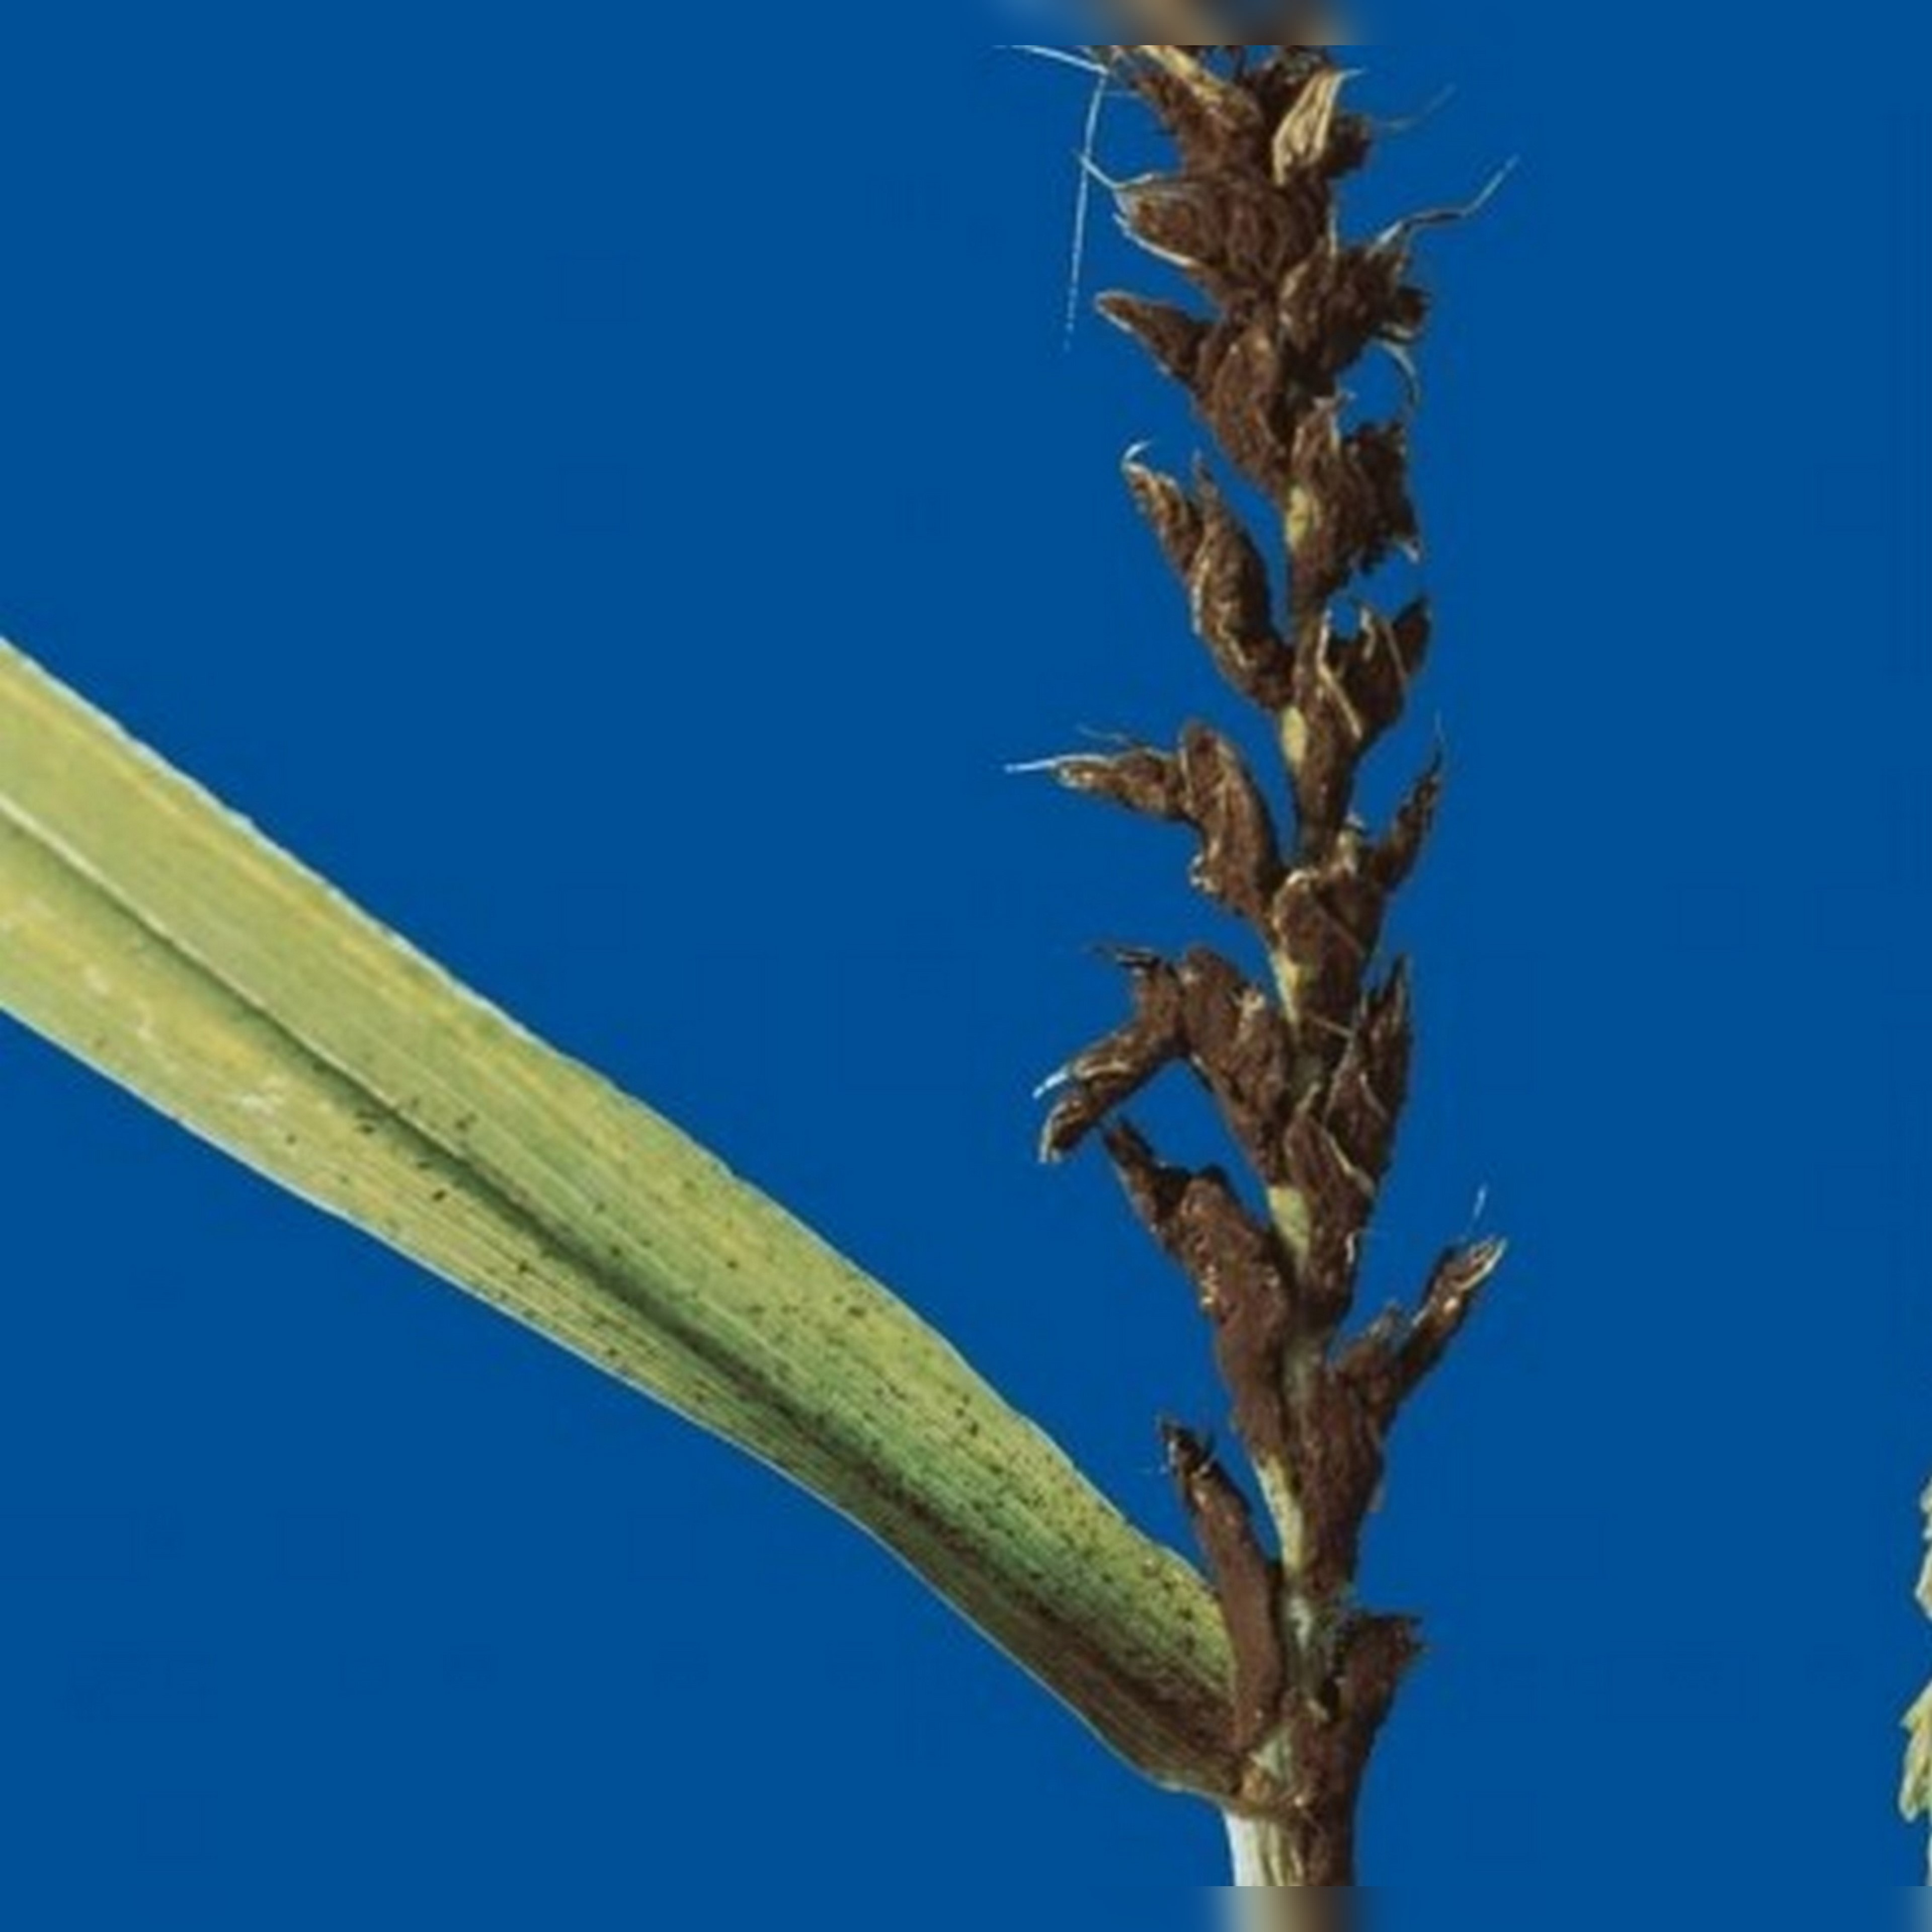Wheat Loose Smut: (1033, 39, 1608, 1799)
